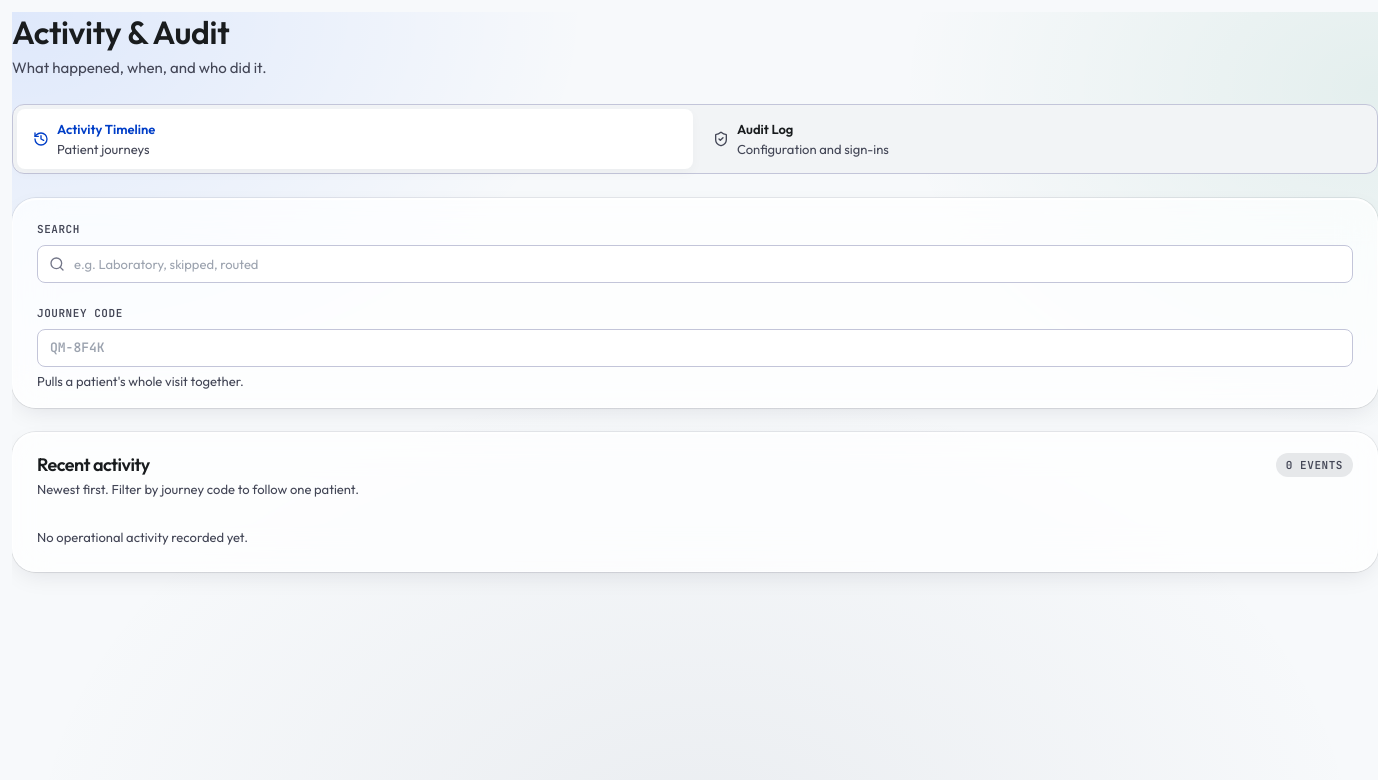
it: Audit Log › records a display board privacy change
Step 1. Click the tab "Audit Log Configuration and sign-ins" → (765, 129), box [697,109,1373,169]
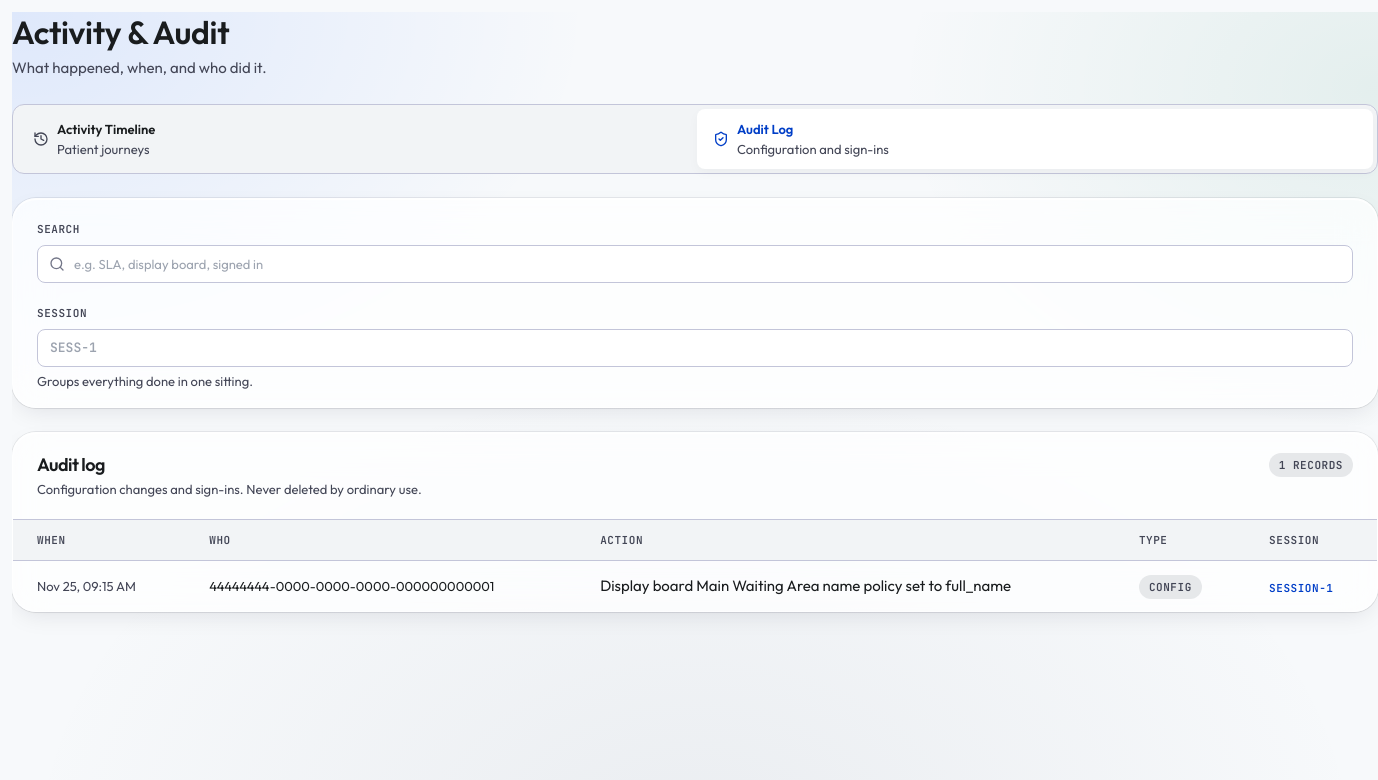
Expected: the text "Display board Main Waiting Area name policy set to full_name" is shown, [576,560,1115,611]
